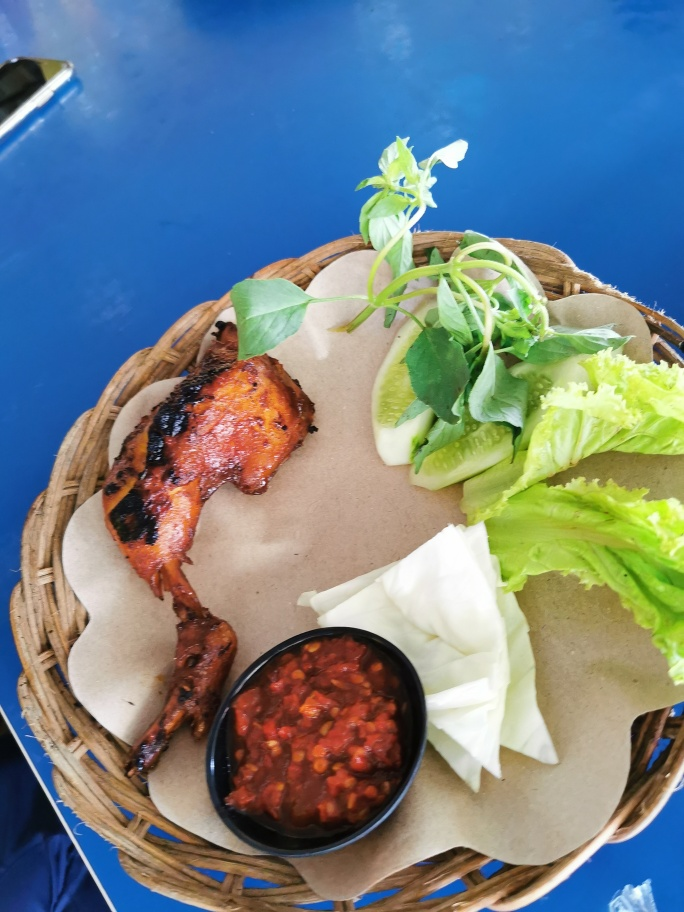ayam bakar: (88, 283, 311, 776)
